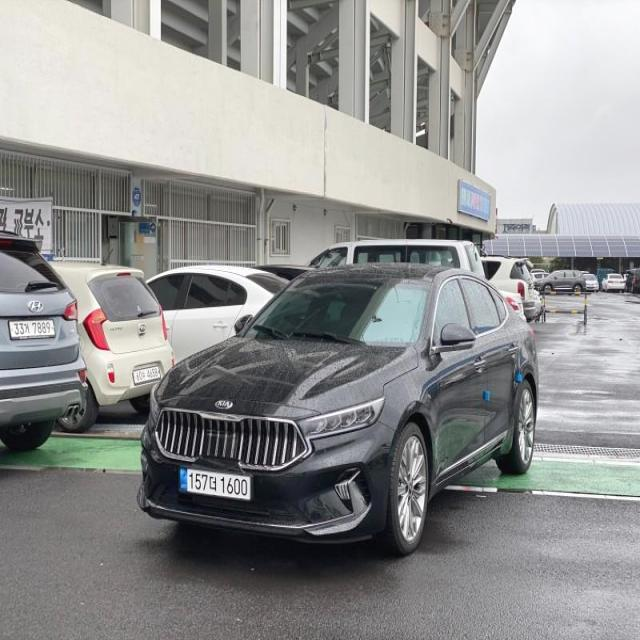car: (131, 259, 544, 556)
illegal_plate: (178, 469, 253, 508)
